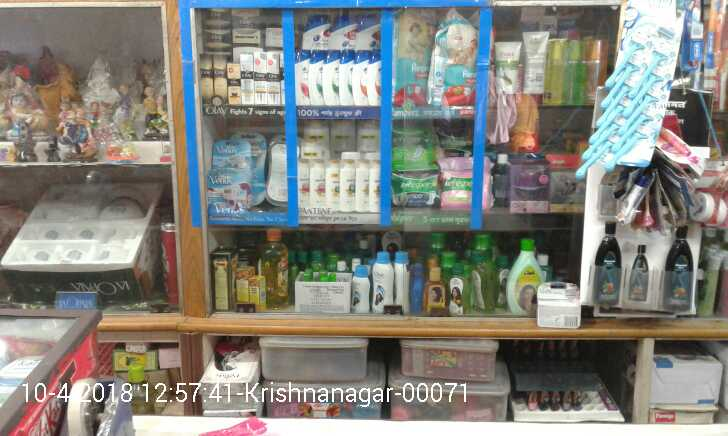venus: (574, 24, 677, 183), (208, 170, 250, 214), (268, 133, 288, 207), (250, 133, 265, 206), (214, 140, 249, 167)
